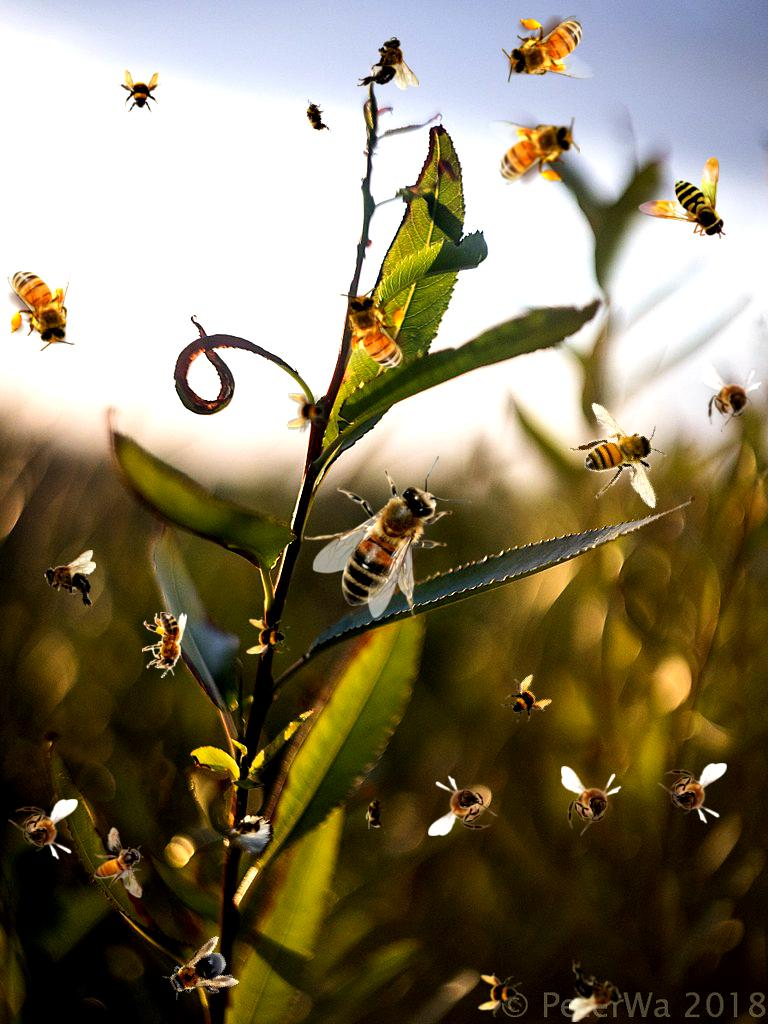Bee: (304, 456, 471, 618), (549, 389, 694, 529), (638, 157, 726, 239), (156, 935, 242, 1013), (7, 258, 75, 351), (340, 288, 408, 381), (502, 15, 595, 83), (487, 117, 580, 185), (7, 798, 80, 862), (561, 766, 622, 836), (701, 362, 762, 432), (657, 763, 727, 824), (428, 775, 498, 836), (493, 667, 557, 731), (93, 826, 145, 899), (43, 550, 96, 612), (357, 37, 419, 90), (569, 960, 622, 1022), (142, 612, 187, 678), (117, 69, 161, 113), (478, 973, 522, 1017), (246, 617, 290, 661), (286, 391, 330, 435), (299, 94, 333, 140), (363, 792, 389, 834), (227, 816, 267, 838)
